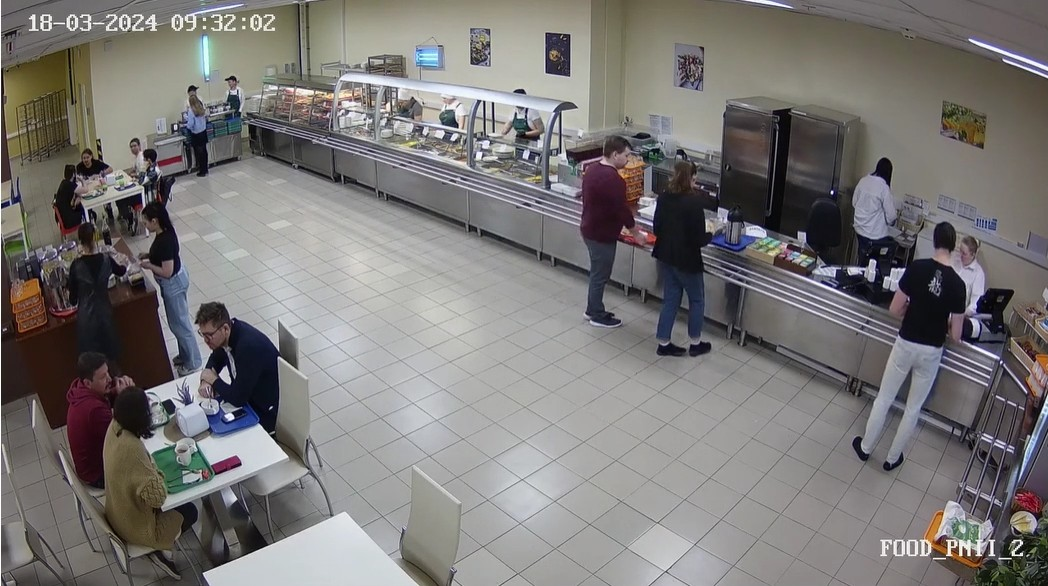Na_Kasse: (795, 211, 976, 471)
Ne_v_Ocheredi: (121, 201, 228, 356), (65, 220, 124, 347)
Personal: (846, 148, 907, 255), (499, 80, 547, 150), (958, 226, 996, 307), (379, 85, 430, 129), (433, 81, 469, 133), (215, 70, 250, 114)
Vybiraet: (571, 128, 650, 336), (650, 148, 724, 357), (182, 96, 212, 179)
Za_Stolom: (98, 385, 193, 558), (190, 297, 293, 434), (59, 350, 118, 495), (48, 161, 92, 231), (133, 150, 171, 201), (121, 136, 152, 185), (71, 148, 113, 183)
